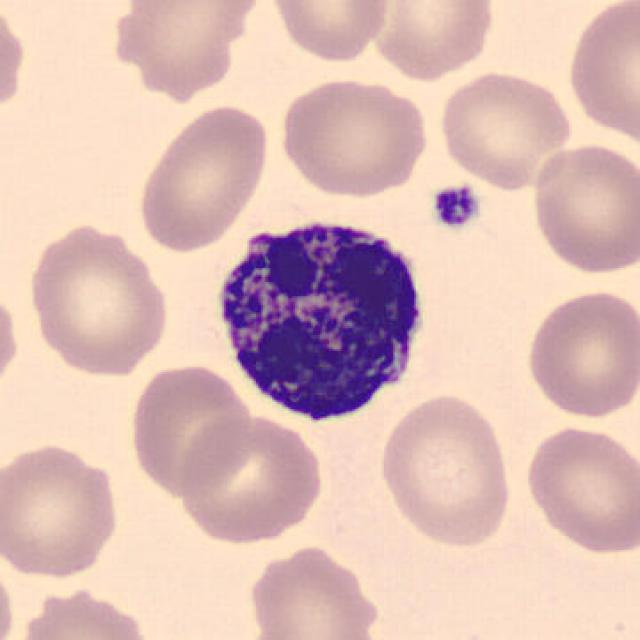Basophil: (206, 203, 436, 428)
Platelets: (428, 180, 482, 233)
RBC: (23, 219, 174, 379), (375, 390, 516, 550), (133, 100, 272, 254), (174, 411, 327, 545), (276, 74, 432, 199), (124, 360, 254, 499), (0, 437, 123, 582), (436, 67, 576, 192), (113, 0, 264, 107), (521, 286, 638, 422), (521, 422, 638, 558), (526, 139, 638, 277), (244, 541, 386, 640), (362, 0, 500, 83), (562, 0, 638, 148), (10, 582, 156, 640), (265, 0, 395, 65), (0, 2, 28, 127), (0, 280, 23, 400), (0, 548, 20, 640)
